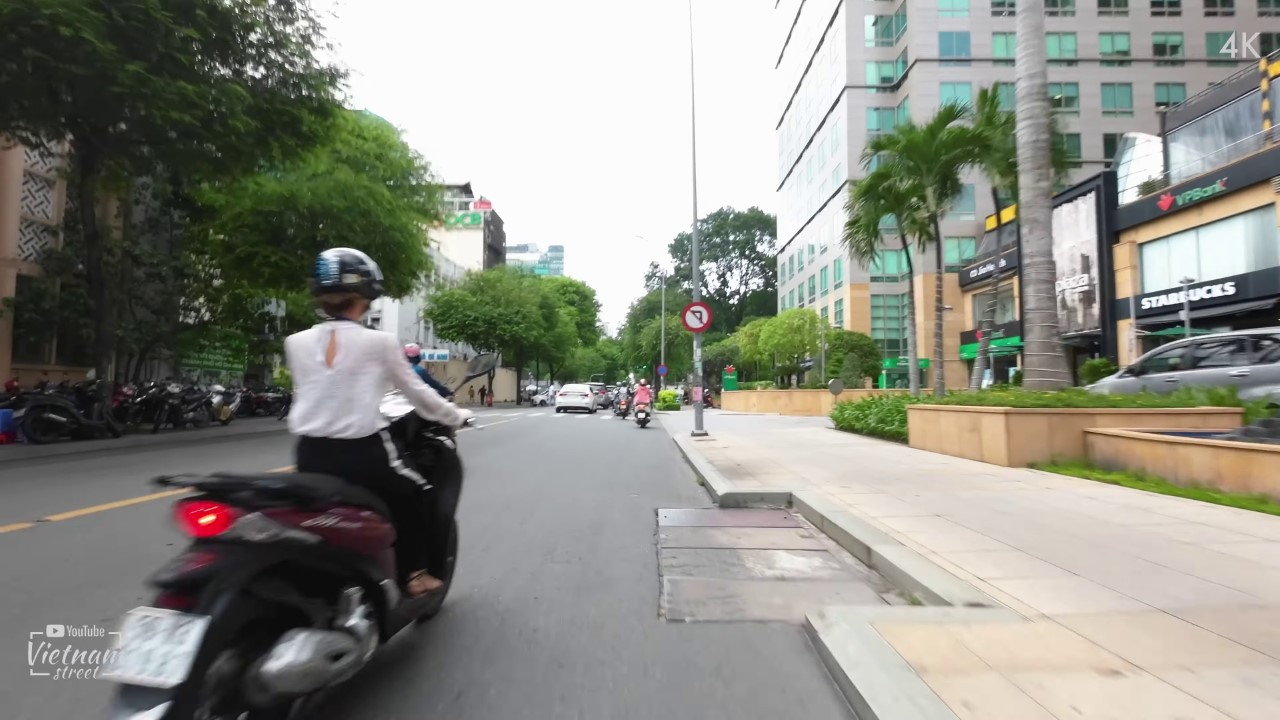cam_re_trai: (680, 300, 714, 333)
